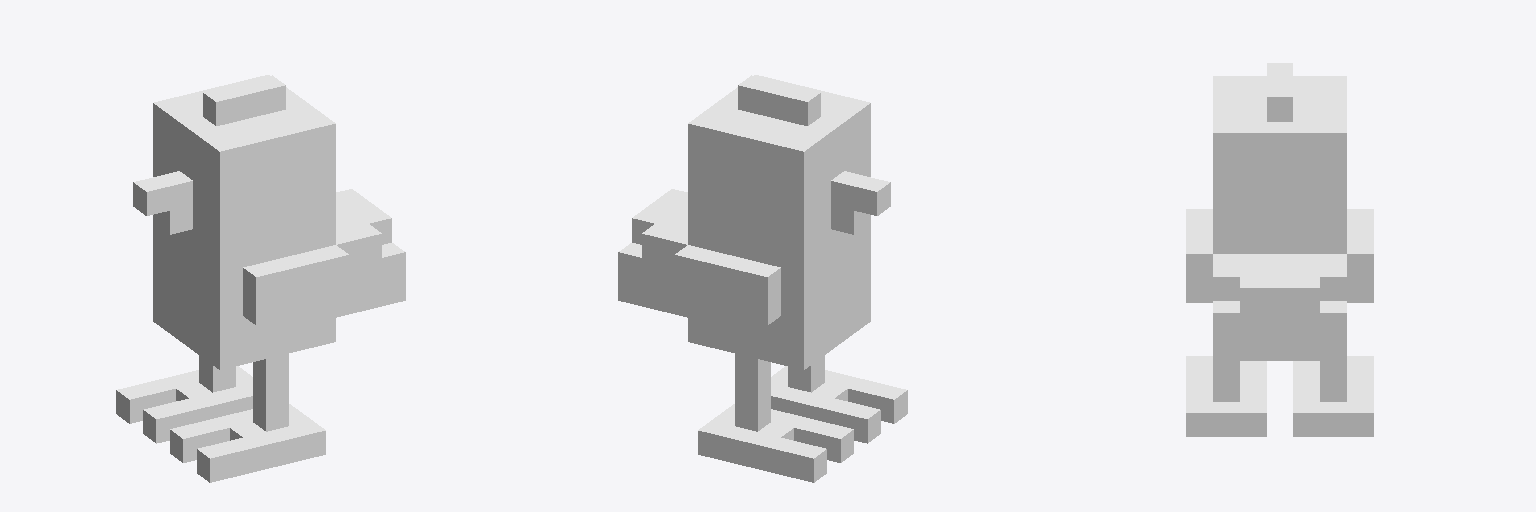
Rendered from chicky.vox.obj.
3 views of the same model, side by side, from view 1: azimuth 30°, elevation 25°; view 2: azimuth 150°, elevation 25°; view 3: azimuth 270°, elevation 25° (orthographic).
Parts seen in each view (by area): view 1: object 1; view 2: object 1; view 3: object 1.
Part boxes in pixels (bbox=[...]): object 1: bbox=[116, 75, 405, 482]; object 1: bbox=[618, 75, 907, 482]; object 1: bbox=[1186, 63, 1373, 436].
Bounding box in the file's own units: 1 × 1.4 × 0.7.